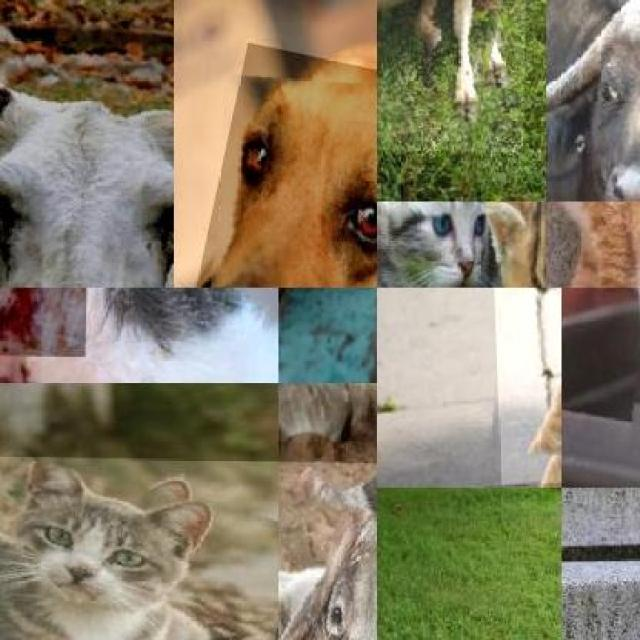buffalo: (546, 0, 640, 202), (549, 0, 640, 202)
cat: (0, 454, 278, 640), (0, 287, 278, 383), (488, 288, 562, 484), (392, 202, 500, 288), (494, 202, 546, 288)
cow: (0, 0, 174, 288), (377, 0, 529, 151), (278, 455, 377, 640)
dog: (174, 41, 377, 288)
injured: (0, 288, 88, 355), (0, 309, 26, 383)
